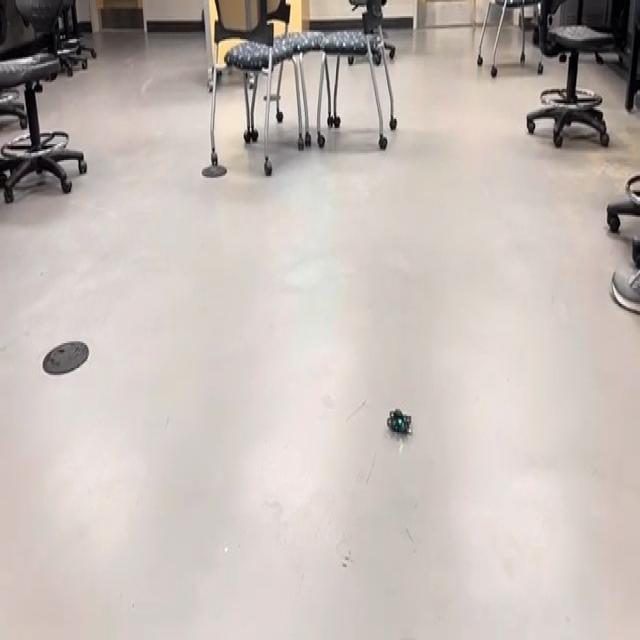drone: (377, 398, 422, 447)
